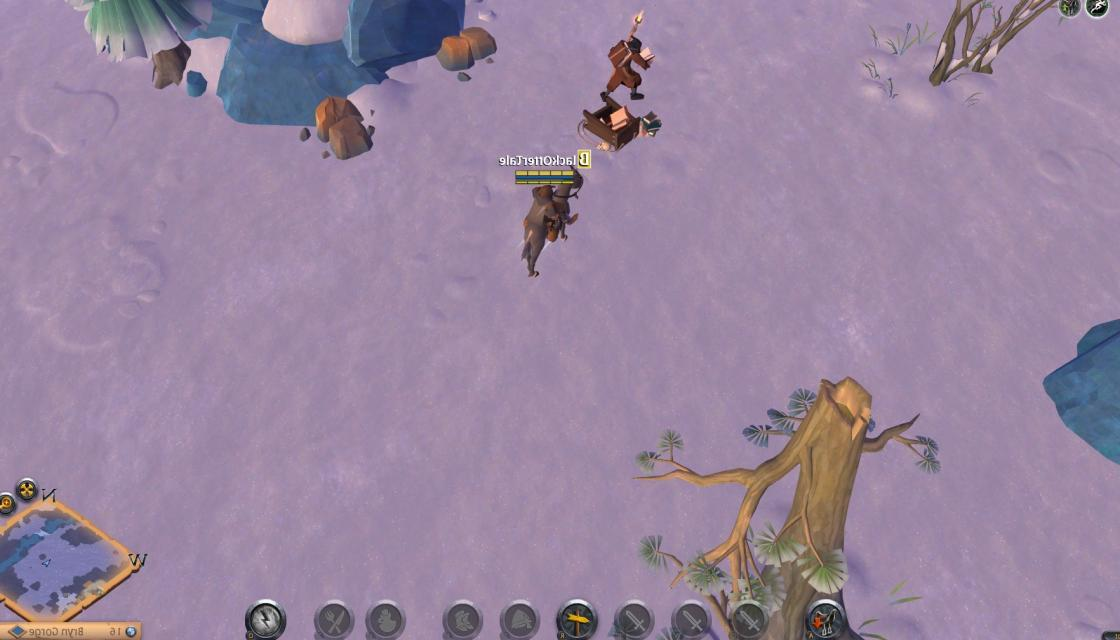limestone: (308, 90, 380, 162), (434, 19, 500, 74)
